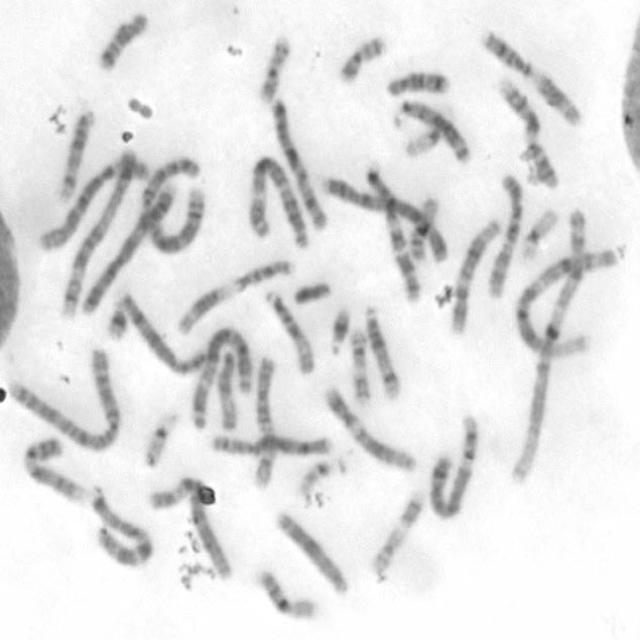A1: (505, 225, 617, 491), (510, 238, 626, 359)
A2: (5, 344, 123, 456), (135, 150, 208, 256)
A3: (185, 319, 255, 435), (243, 150, 311, 250)
B4: (74, 179, 180, 316), (314, 168, 452, 266)
B5: (56, 144, 140, 317), (425, 408, 480, 520)
C10: (483, 167, 526, 299), (249, 350, 278, 491)
C11: (476, 22, 586, 128), (170, 252, 298, 334)
C12: (318, 378, 419, 474), (447, 214, 503, 338)
C6: (31, 146, 145, 254), (143, 468, 236, 582)
C7: (362, 156, 425, 305), (87, 480, 155, 570)
C8: (116, 286, 208, 377), (206, 427, 334, 459)
C9: (495, 72, 559, 190), (18, 432, 88, 504)
D13: (271, 507, 350, 597), (390, 96, 473, 164)
D14: (50, 106, 97, 201), (361, 300, 403, 400)
D15: (262, 286, 317, 375), (214, 346, 239, 432)
E16: (250, 563, 320, 622), (404, 191, 440, 263)
E17: (368, 486, 426, 574), (346, 323, 373, 404)
E18: (94, 7, 149, 72), (382, 66, 451, 98)
F19: (401, 101, 456, 161), (518, 205, 558, 262)
F20: (254, 28, 293, 104), (335, 30, 389, 84)
G21: (324, 303, 352, 356), (102, 294, 130, 342)
G22: (140, 406, 182, 468), (295, 454, 349, 498)
X: (266, 93, 331, 234)
Y: (290, 276, 332, 306)
